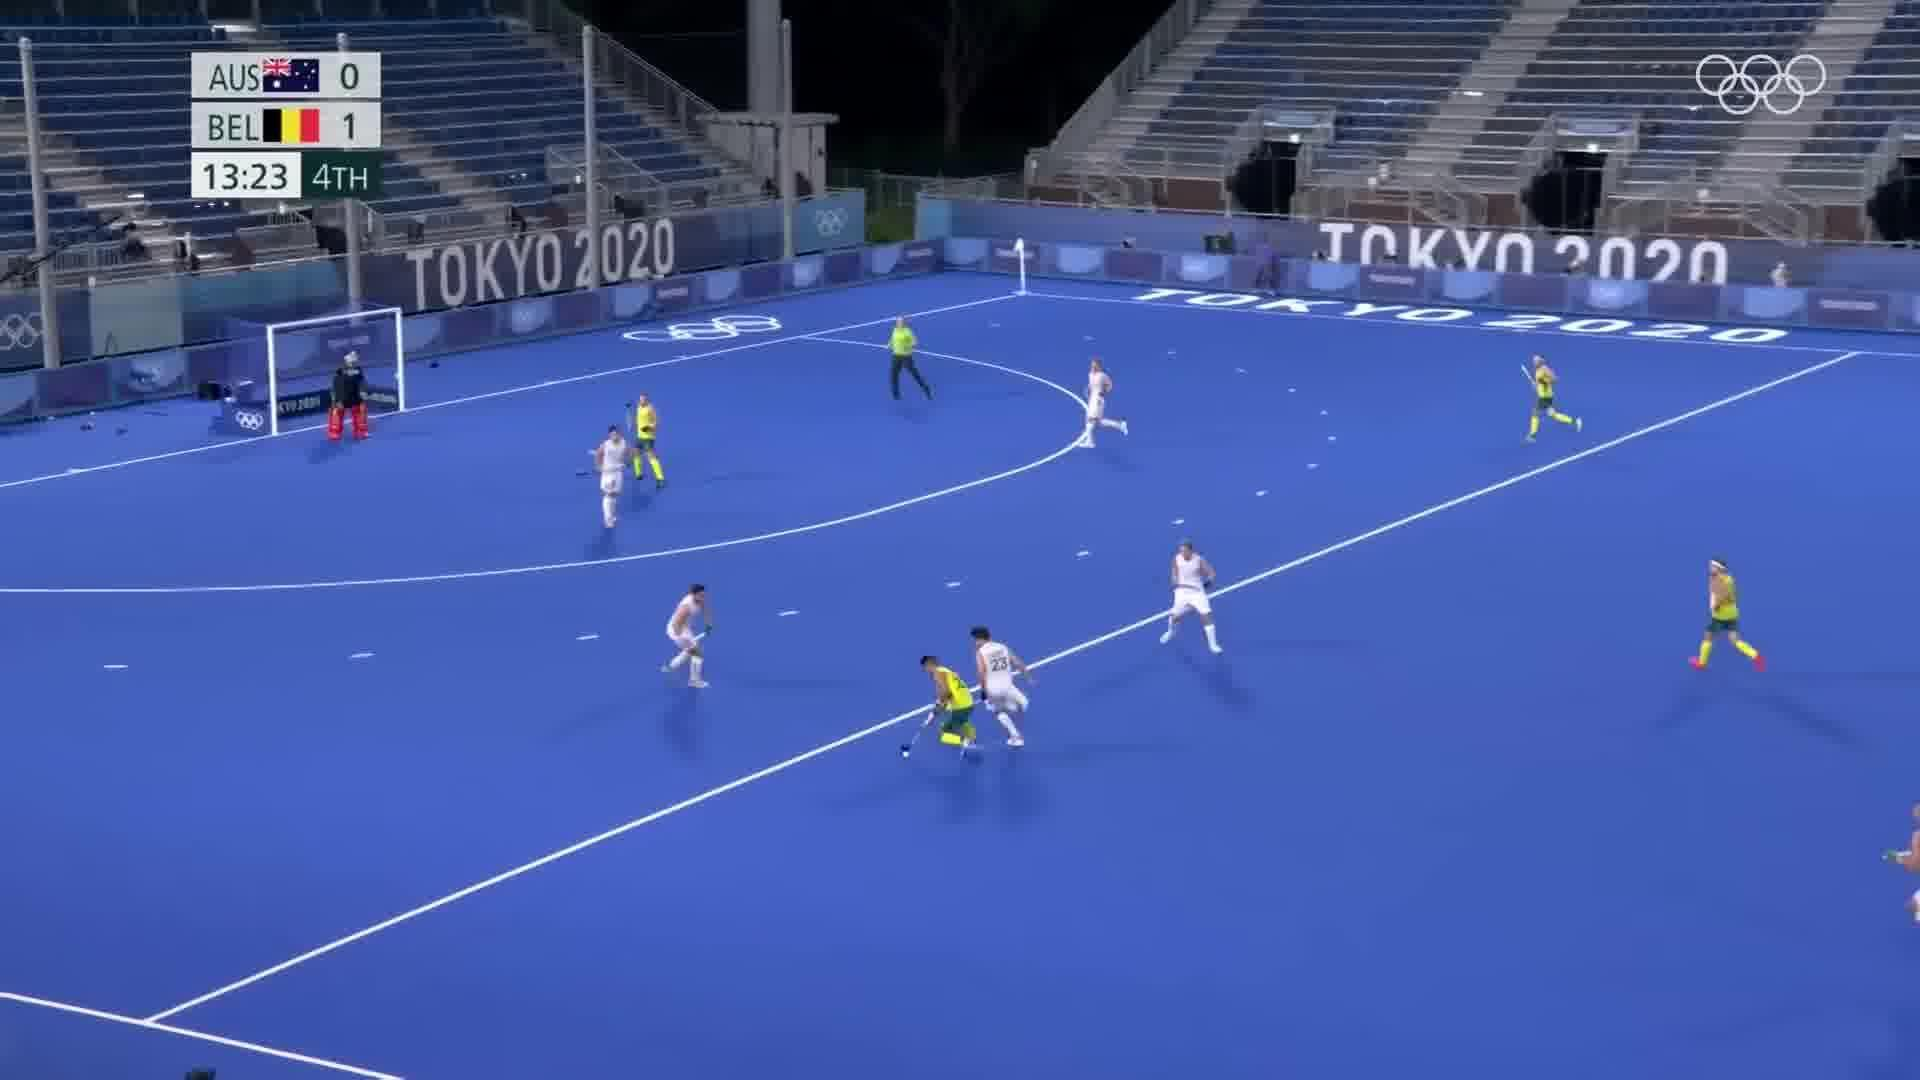ball: (899, 746, 914, 765)
